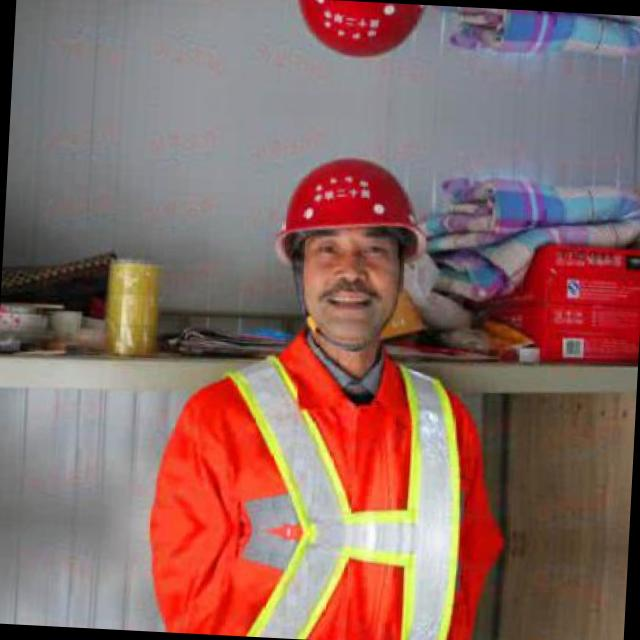helmet: (257, 142, 437, 356), (271, 0, 445, 75)
